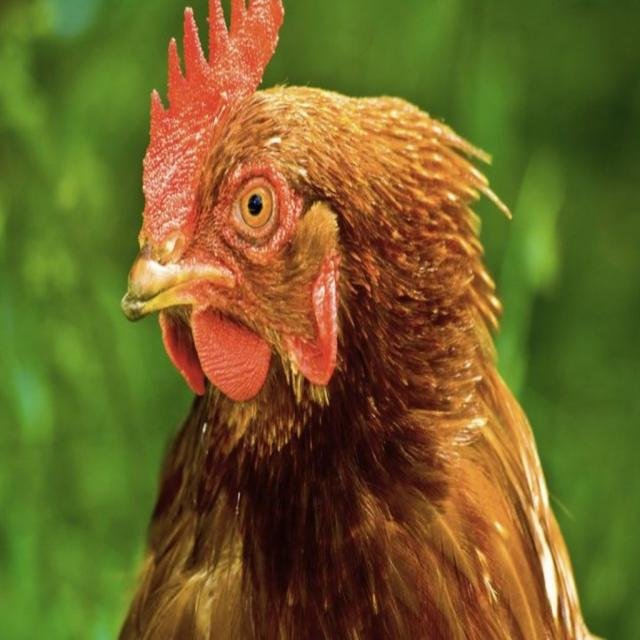Chicken: (121, 0, 603, 640)
